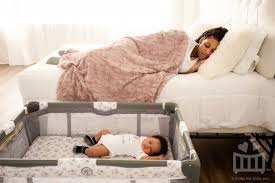baby: (73, 130, 167, 159)
crib: (0, 102, 199, 182)
